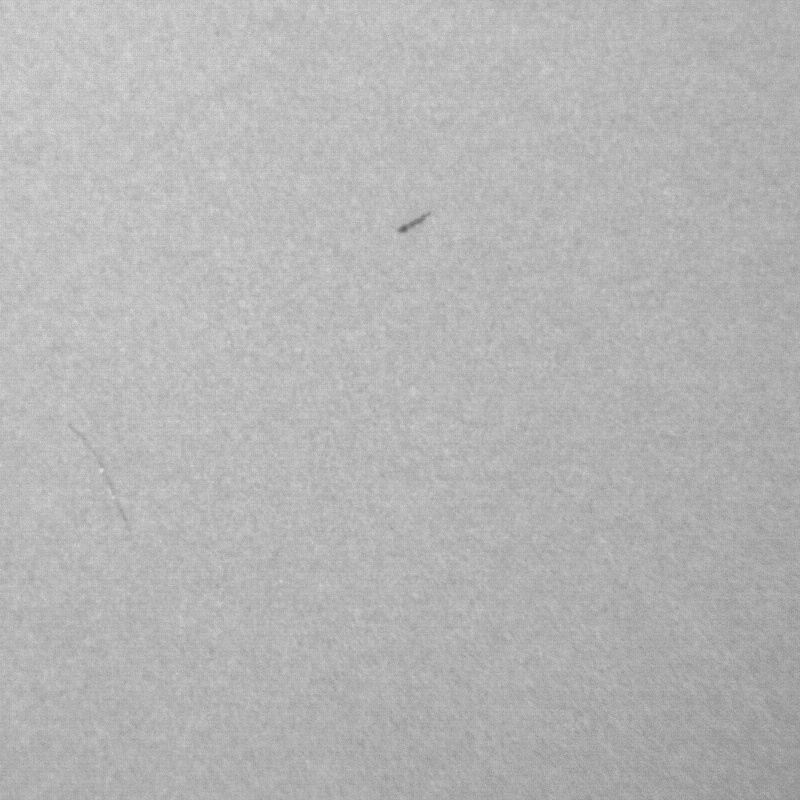defect: (70, 426, 143, 538), (385, 213, 433, 239)
